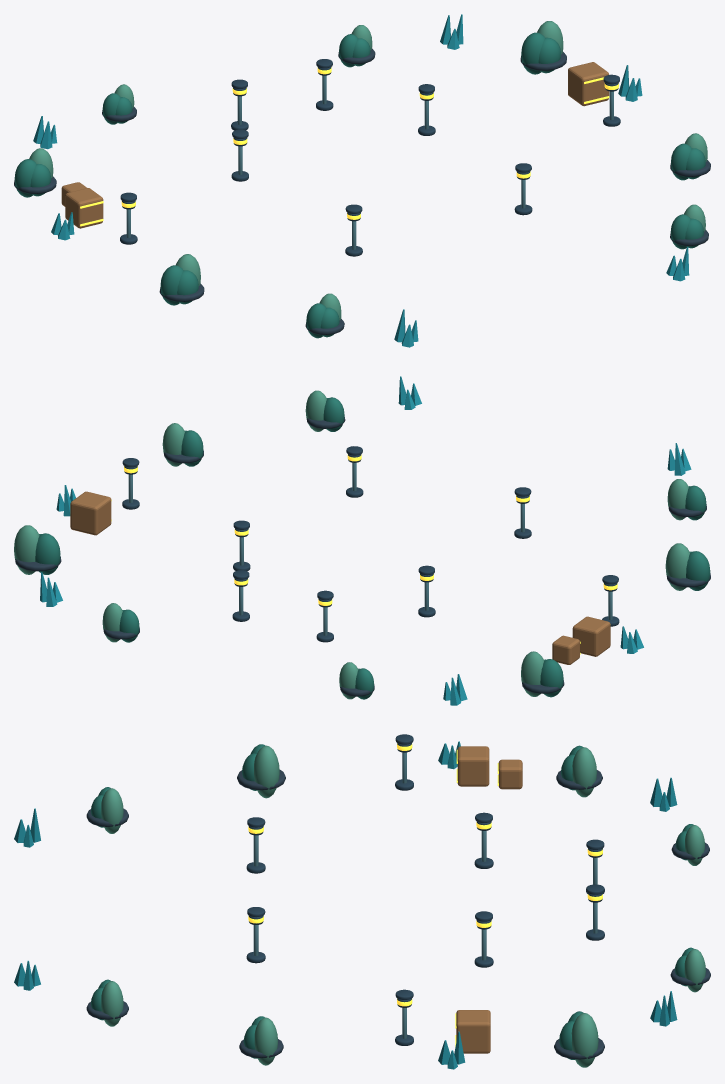
File: props.glb
3 renders of one model, top to bottom at view 1: azimuth 30°, elevation 25°; view 2: azimuth 150°, elevation 25°; view 3: azimuth 270°, elevation 25°, orthographic. The views are drawn at different scales.
Visible parts, largest first — view 1: props; view 2: props; view 3: props.
Part boxes in pixels (bbox=[...]): props: bbox=[14, 14, 710, 347]; props: bbox=[14, 376, 710, 705]; props: bbox=[14, 734, 710, 1069].
Size of the model in its own units: 13.87 by 1.31 by 13.15.
